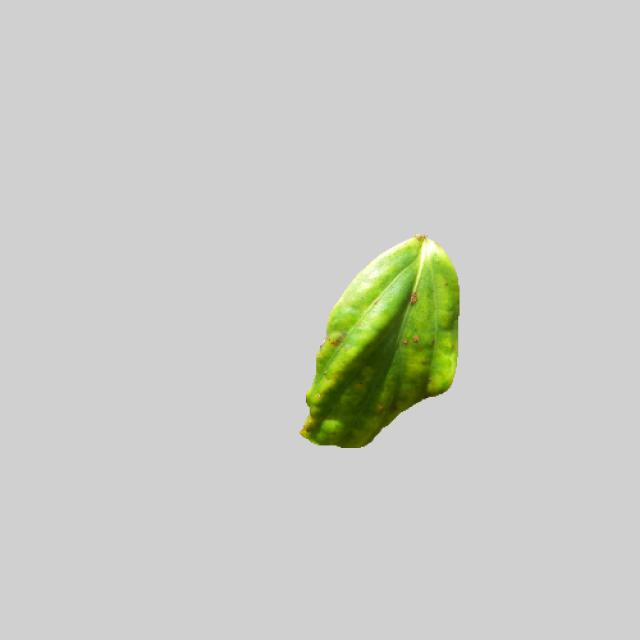yellow-mottle-virus: (298, 230, 461, 448)
